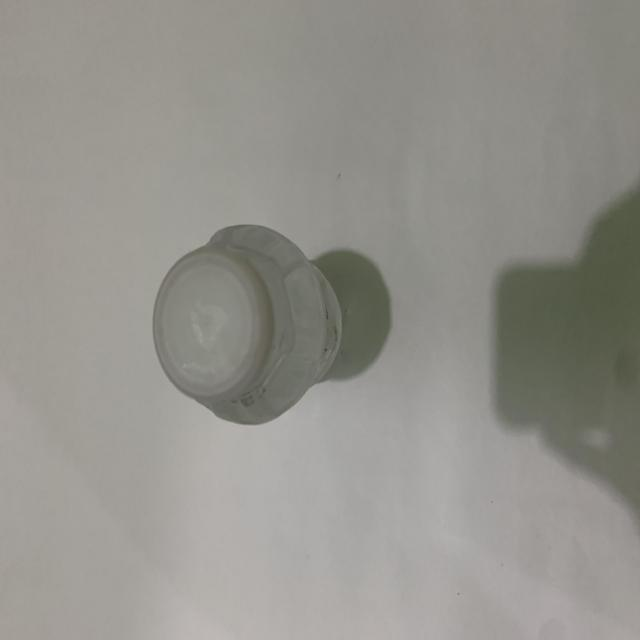bottle: (139, 217, 386, 434)
